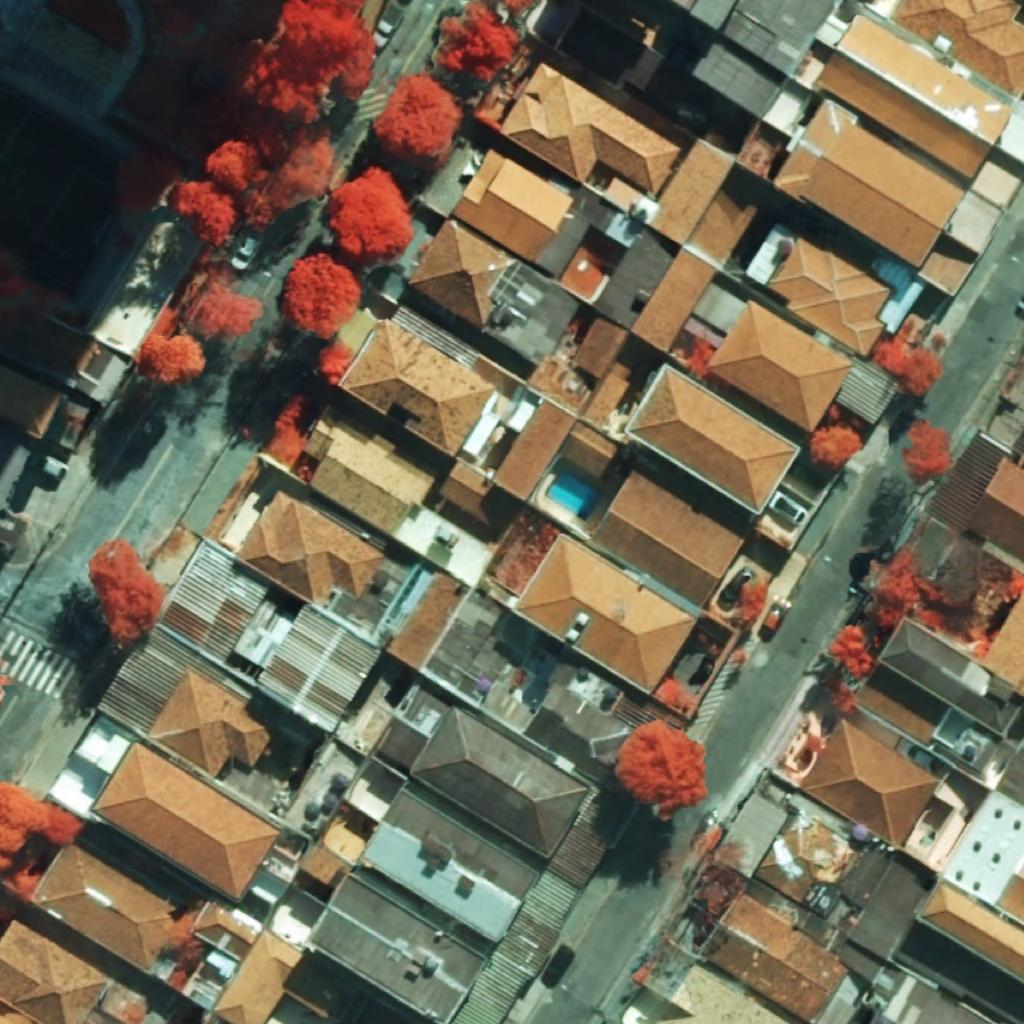pool: (545, 469, 602, 520)
